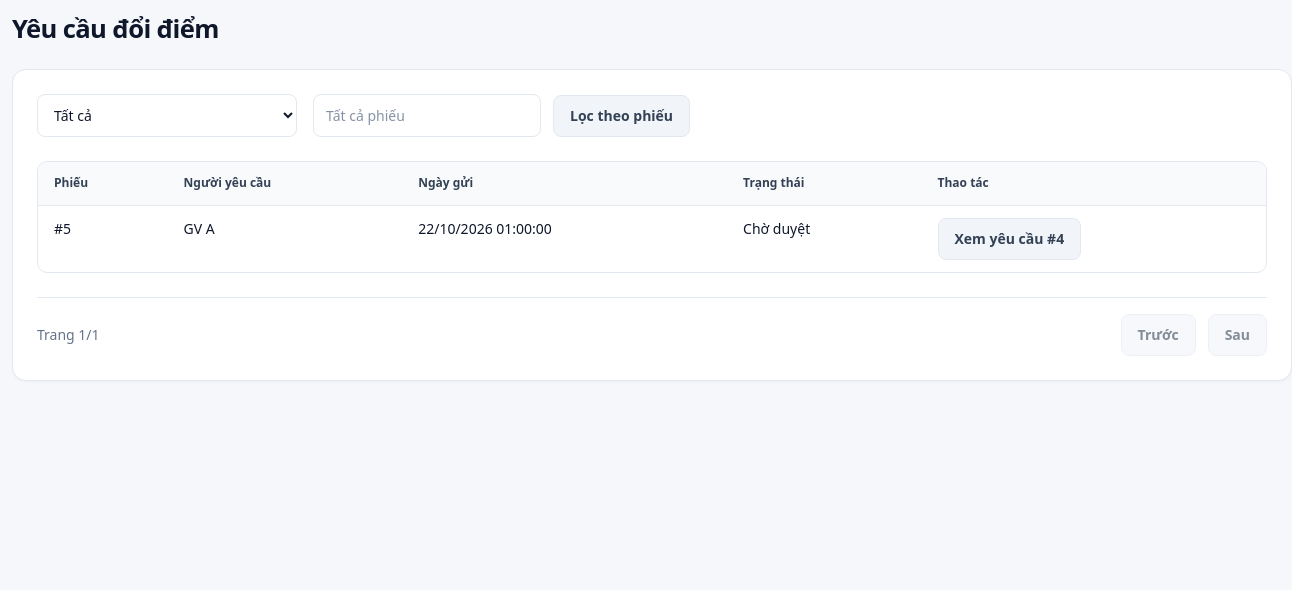
Test: giảng viên chỉ đọc không có nút duyệt yêu cầu
The image size is (1292, 590).
What coordinates should you click on to do the following:
click the button "Xem yêu cầu #4"
I would click on:
 (1009, 239)
Its box is left=938, top=218, right=1081, bottom=260.
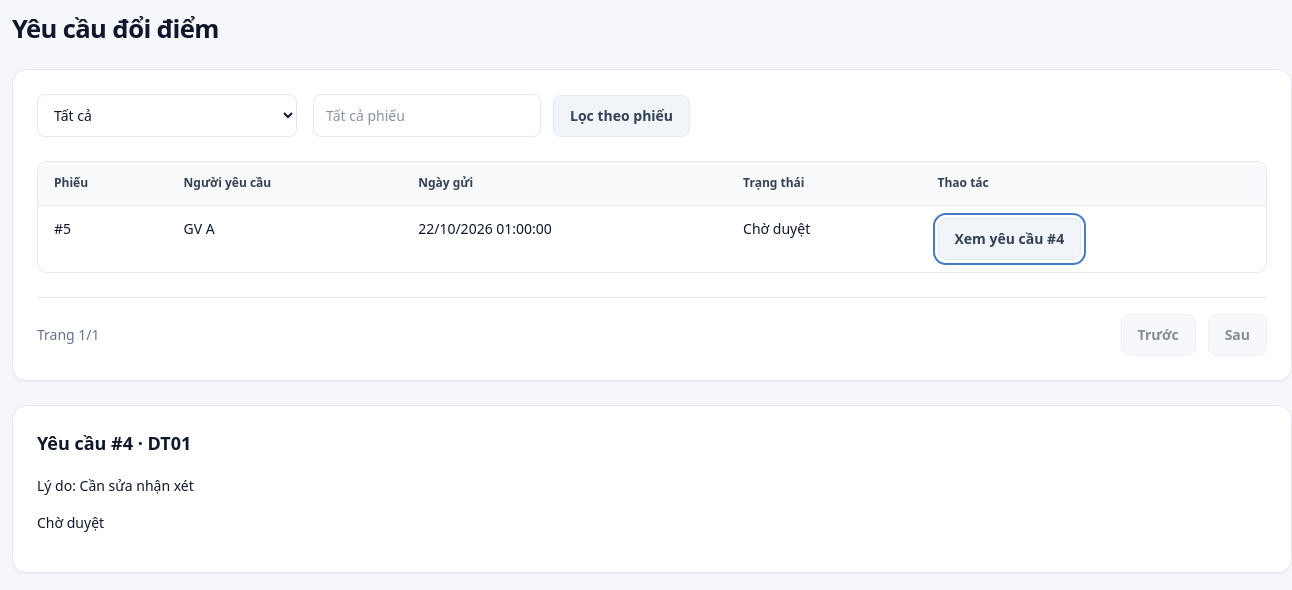
Check: the text "Lý do: Cần sửa nhận xét" is shown, box left=37, top=476, right=194, bottom=495
